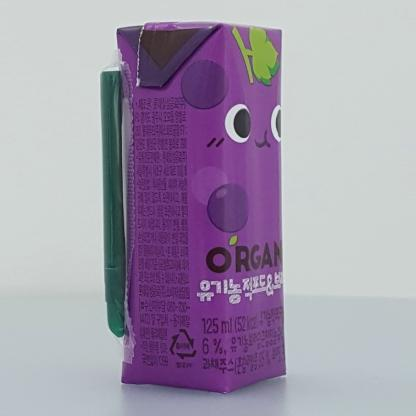---------------: (100, 21, 286, 394)
